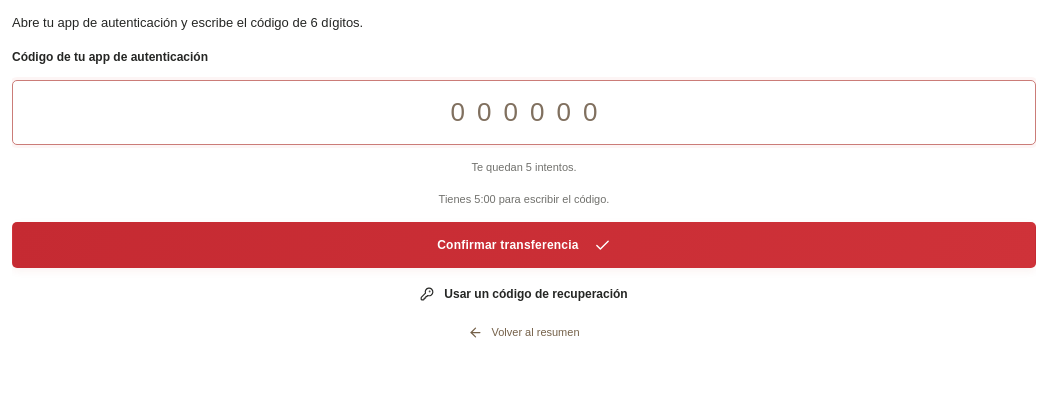
Test case: StepUpPanel with an authenticator app › an incomplete code does not reach the server
Step 1. Type "123" into the field labelled "Código de tu app de autenticación" → (524, 113), box [12,80,1036,145]
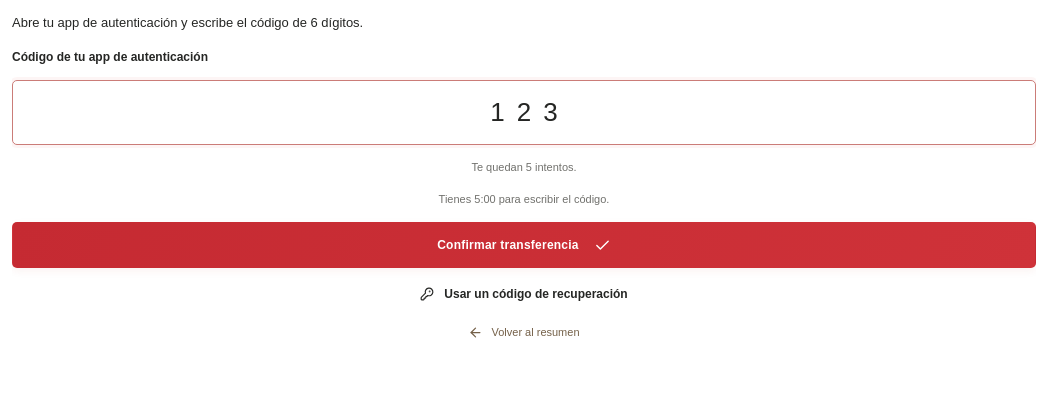
Step 2. Click the button "Confirmar transferencia" → (524, 245), box [12,222,1036,268]
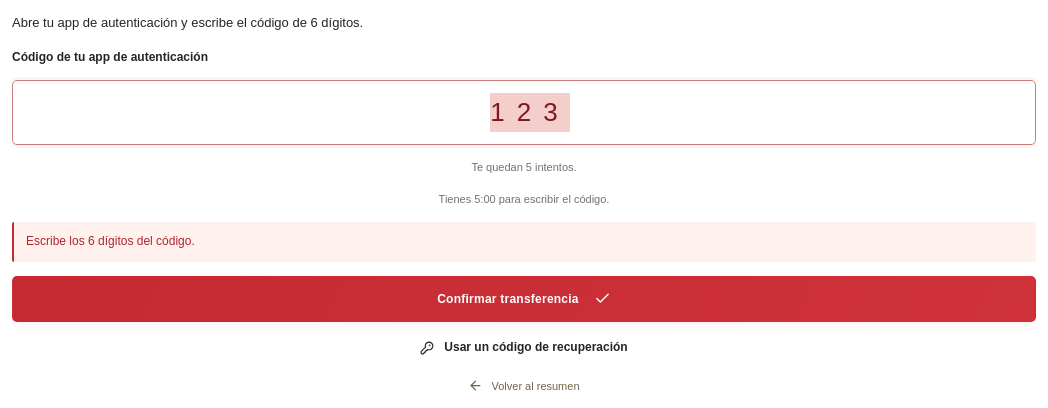
Now the message shows "Escribe los 6 dígitos", box [26,234,195,248]
